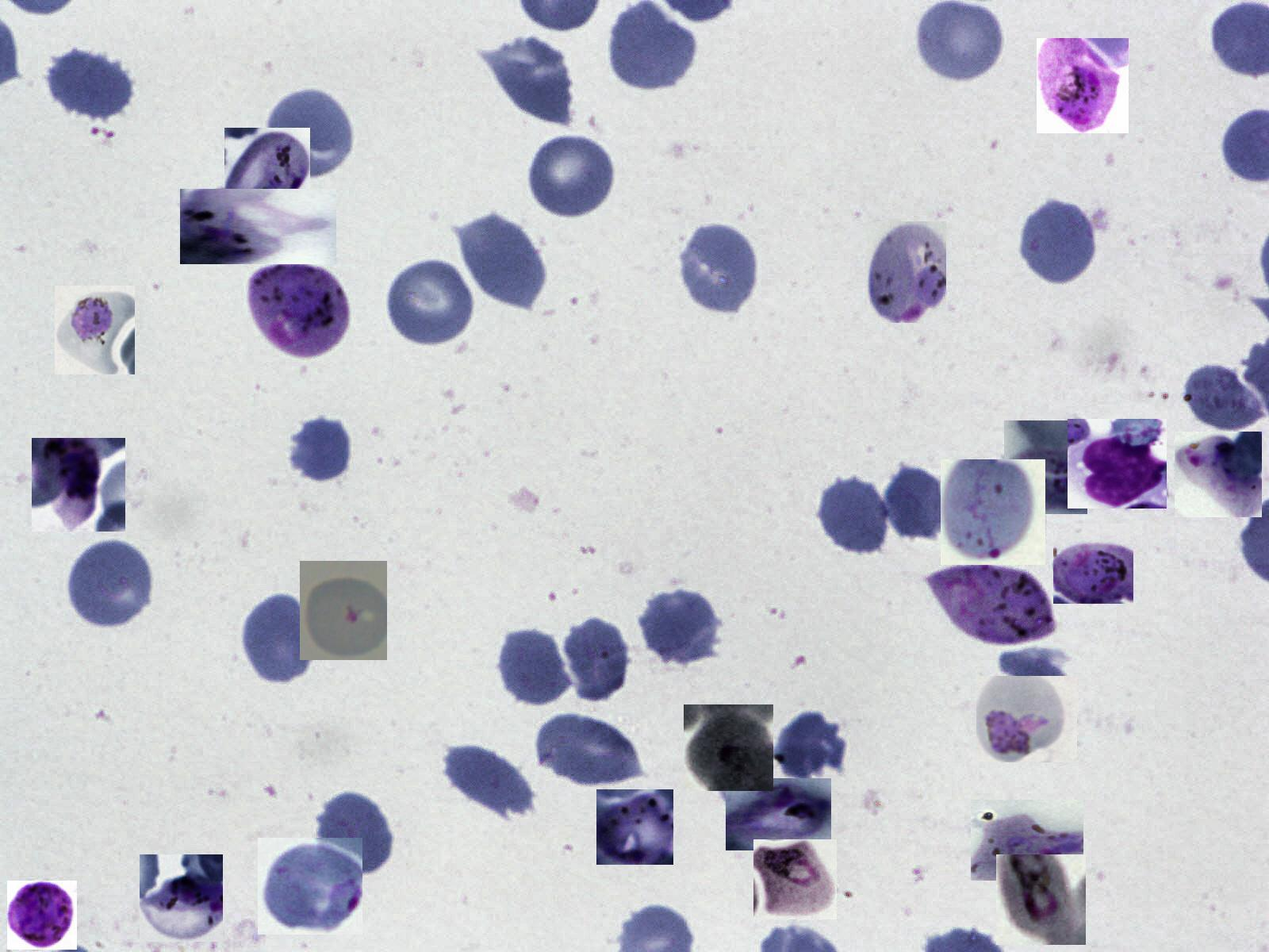Infected: (180, 189, 336, 264), (924, 561, 1060, 647), (941, 460, 1045, 566), (258, 838, 362, 935), (248, 263, 351, 359), (971, 800, 1083, 881), (1068, 419, 1167, 509), (32, 438, 125, 532), (1037, 38, 1129, 133), (976, 676, 1077, 762), (300, 561, 387, 660), (996, 854, 1086, 945), (867, 221, 946, 323), (1004, 420, 1087, 514), (684, 704, 773, 791), (726, 778, 831, 850), (1175, 432, 1262, 517), (140, 854, 223, 942), (55, 286, 135, 375), (224, 128, 310, 208), (753, 839, 837, 919), (1053, 524, 1133, 604), (596, 789, 673, 865), (7, 881, 77, 950)
Uninfected: (455, 209, 548, 313), (65, 536, 156, 634), (534, 709, 644, 788), (385, 256, 477, 350), (264, 88, 355, 182), (527, 132, 619, 222), (677, 221, 761, 317), (481, 36, 573, 123), (240, 590, 319, 689), (608, 1, 696, 89), (439, 743, 538, 820), (314, 789, 397, 880), (915, 0, 1003, 83), (1018, 195, 1098, 286), (46, 46, 141, 121), (637, 587, 723, 666), (815, 473, 892, 559), (770, 704, 848, 786), (496, 627, 573, 710), (562, 615, 633, 705), (880, 463, 951, 544), (1183, 362, 1263, 432), (286, 414, 358, 489)
